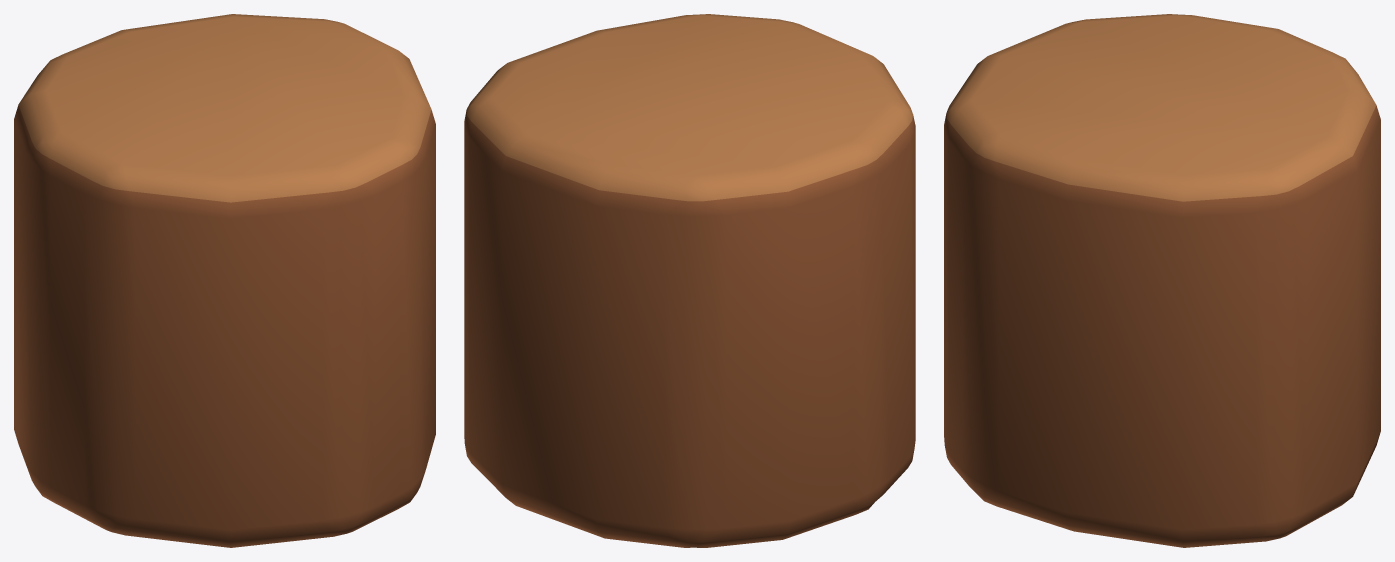
Rendered from Stump.fbx.
The picture shows the model from 3 angles, left to right: view 1: azimuth 30°, elevation 25°; view 2: azimuth 150°, elevation 25°; view 3: azimuth 270°, elevation 25°; orthographic projection.
Visible parts, largest first — view 1: Stump; view 2: Stump; view 3: Stump.
Boxes of the visible parts, left/top/right/bottom form: Stump: left=14, top=14, right=435, bottom=547; Stump: left=464, top=14, right=915, bottom=547; Stump: left=944, top=14, right=1380, bottom=547.
Size of the model in its own units: 75.27 by 70 by 74.94.
